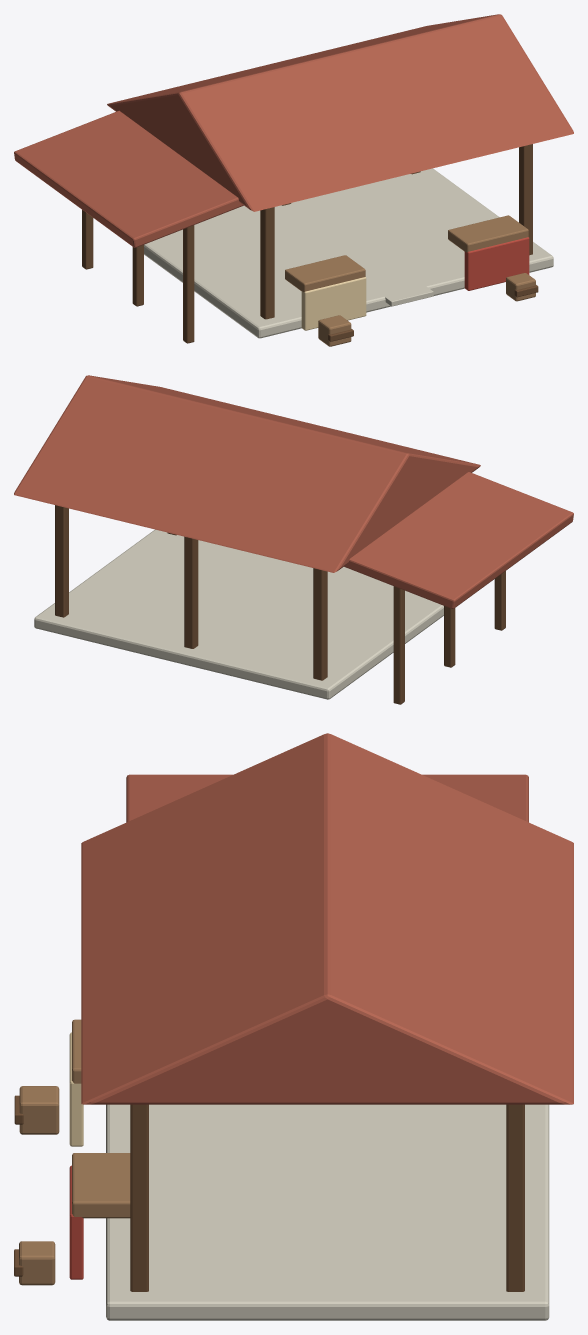
Rendered from temperate-market-1.glb.
The picture shows the model from 3 angles, top to bottom: view 1: azimuth 30°, elevation 25°; view 2: azimuth 150°, elevation 25°; view 3: azimuth 270°, elevation 25°; orthographic projection. The views are drawn at different scales.
Visible parts, largest first — view 1: Clay tiles, Cut limestone, Dark beams, Aged oak, Market red cloth, Market cream cloth; view 2: Clay tiles, Cut limestone, Dark beams; view 3: Clay tiles, Cut limestone, Aged oak, Dark beams, Market red cloth, Market cream cloth.
Boxes of the visible parts, x1,y1,x2,y2 form: Clay tiles: (14,14,573,247); Cut limestone: (144,168,553,338); Dark beams: (82,144,538,343); Aged oak: (285,215,535,346); Market red cloth: (464,237,529,290); Market cream cloth: (301,277,366,330); Clay tiles: (14,375,573,608); Cut limestone: (34,529,443,699); Dark beams: (55,505,505,704); Clay tiles: (81,733,573,1104); Cut limestone: (106,1104,549,1320); Aged oak: (19,1019,130,1285); Dark beams: (14,1095,524,1291); Market red cloth: (69,1165,83,1279); Market cream cloth: (69,1032,83,1146).
Size of the model in its own units: 7.1 by 3.19 by 4.8.
